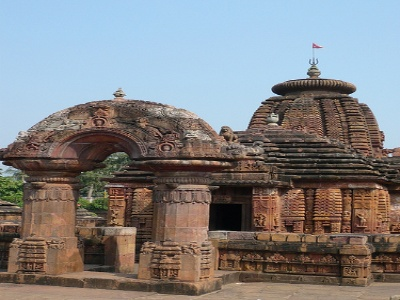amalaka: (259, 73, 362, 101)
torana: (4, 80, 235, 289)
